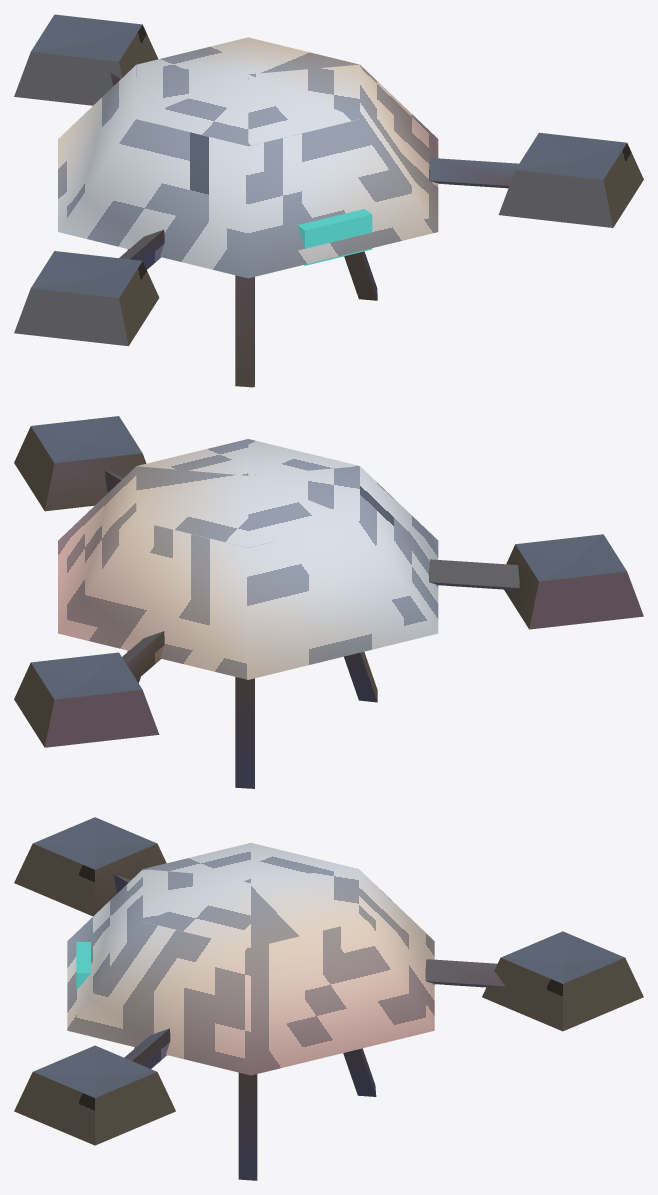
File: ship.drone.glb
3 renders of one model, top to bottom at view 1: azimuth 30°, elevation 25°; view 2: azimuth 150°, elevation 25°; view 3: azimuth 270°, elevation 25°, orthographic. The views are drawn at different scales.
Parts seen in each view (by area): view 1: kit_body, kit_rings, kit_feet, kit_arms, kit_eye; view 2: kit_body, kit_rings, kit_arms, kit_feet; view 3: kit_body, kit_rings, kit_feet, kit_arms, kit_eye.
Boxes of the visible parts, <box> form: kit_body: <box>58,37,438,278</box>; kit_rings: <box>14,14,643,346</box>; kit_feet: <box>127,249,377,387</box>; kit_arms: <box>110,72,518,269</box>; kit_eye: <box>297,209,372,265</box>; kit_body: <box>58,439,438,679</box>; kit_rings: <box>14,416,643,747</box>; kit_arms: <box>105,470,519,679</box>; kit_feet: <box>127,650,377,788</box>; kit_body: <box>67,843,434,1075</box>; kit_rings: <box>14,817,643,1145</box>; kit_feet: <box>134,1047,376,1180</box>; kit_arms: <box>114,874,504,1068</box>; kit_eye: <box>76,942,90,990</box>.
Bounding box in the file's own units: 1.13 × 0.4355 × 1.01.
Materials: 4 (4 with a texture image).
